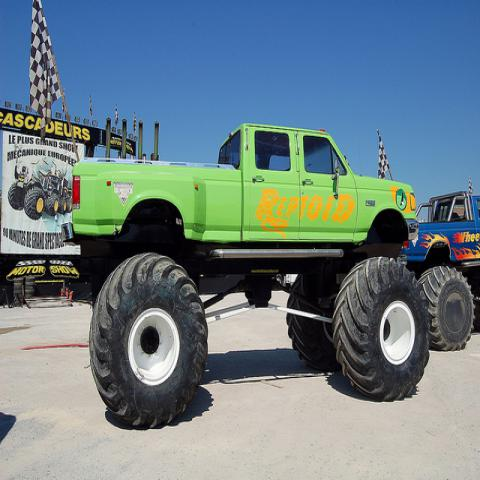truck: (72, 123, 430, 429), (410, 183, 478, 351)
